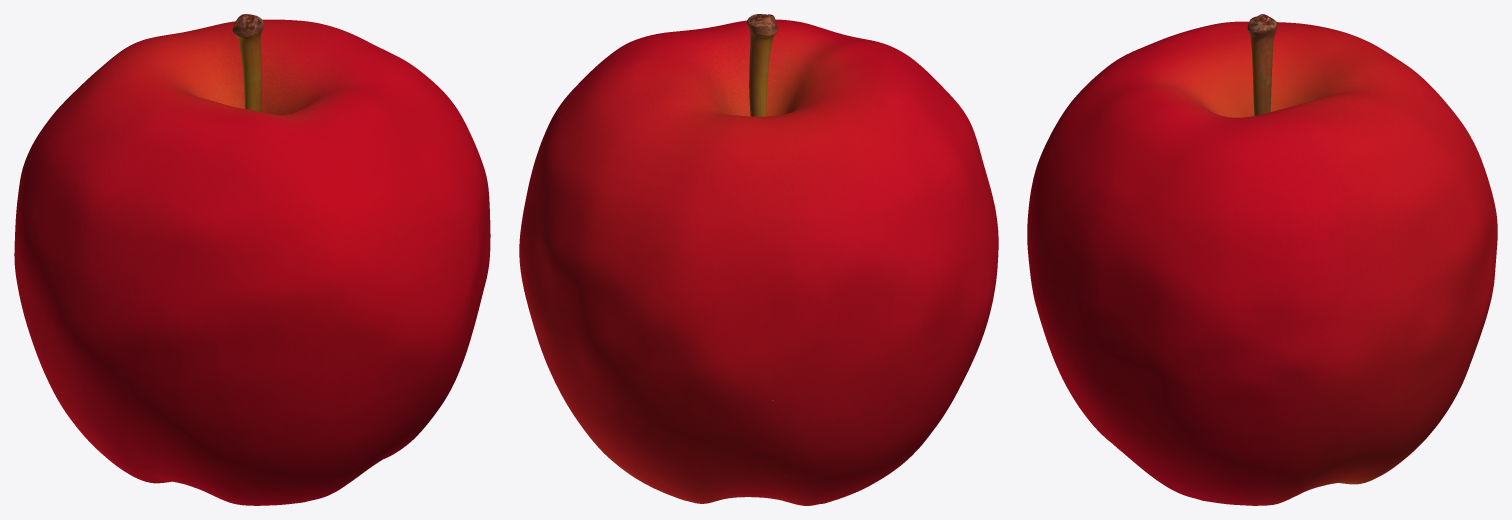
Rendered from apple.glb.
3 renders of one model, left to right at view 1: azimuth 30°, elevation 25°; view 2: azimuth 150°, elevation 25°; view 3: azimuth 270°, elevation 25°, orthographic.
Visible parts, largest first — view 1: tripo_node_d53f735c-f8f3-46b0-a145-7e4e0d82f7b7; view 2: tripo_node_d53f735c-f8f3-46b0-a145-7e4e0d82f7b7; view 3: tripo_node_d53f735c-f8f3-46b0-a145-7e4e0d82f7b7.
Part boxes in pixels (bbox=[...]): tripo_node_d53f735c-f8f3-46b0-a145-7e4e0d82f7b7: bbox=[14, 14, 490, 505]; tripo_node_d53f735c-f8f3-46b0-a145-7e4e0d82f7b7: bbox=[519, 14, 998, 505]; tripo_node_d53f735c-f8f3-46b0-a145-7e4e0d82f7b7: bbox=[1027, 14, 1497, 505].
Bounding box in the file's own units: 0.9523 × 0.9798 × 0.9476.
1 material, 1 textured.
